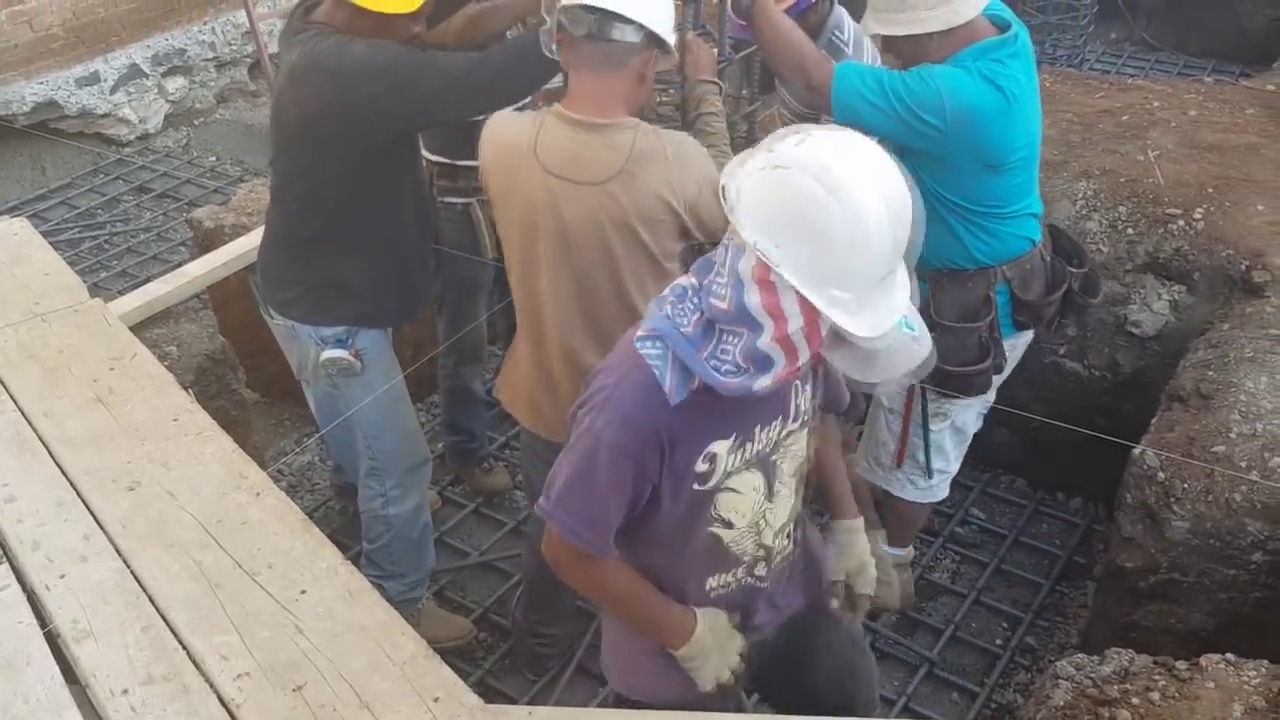helmet: (737, 124, 914, 331), (540, 4, 679, 58)
helmet-off: (858, 3, 996, 69)
helmet-on: (667, 119, 934, 408), (527, 0, 680, 121)
person: (530, 125, 913, 700), (254, 0, 548, 668), (751, 2, 1051, 473), (484, 0, 742, 472), (416, 0, 534, 504), (749, 0, 888, 151)
